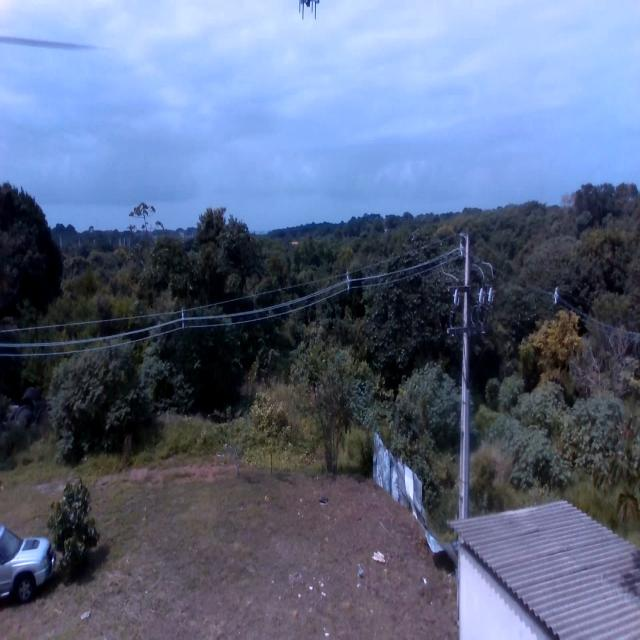-uav-: (288, 0, 334, 30)
